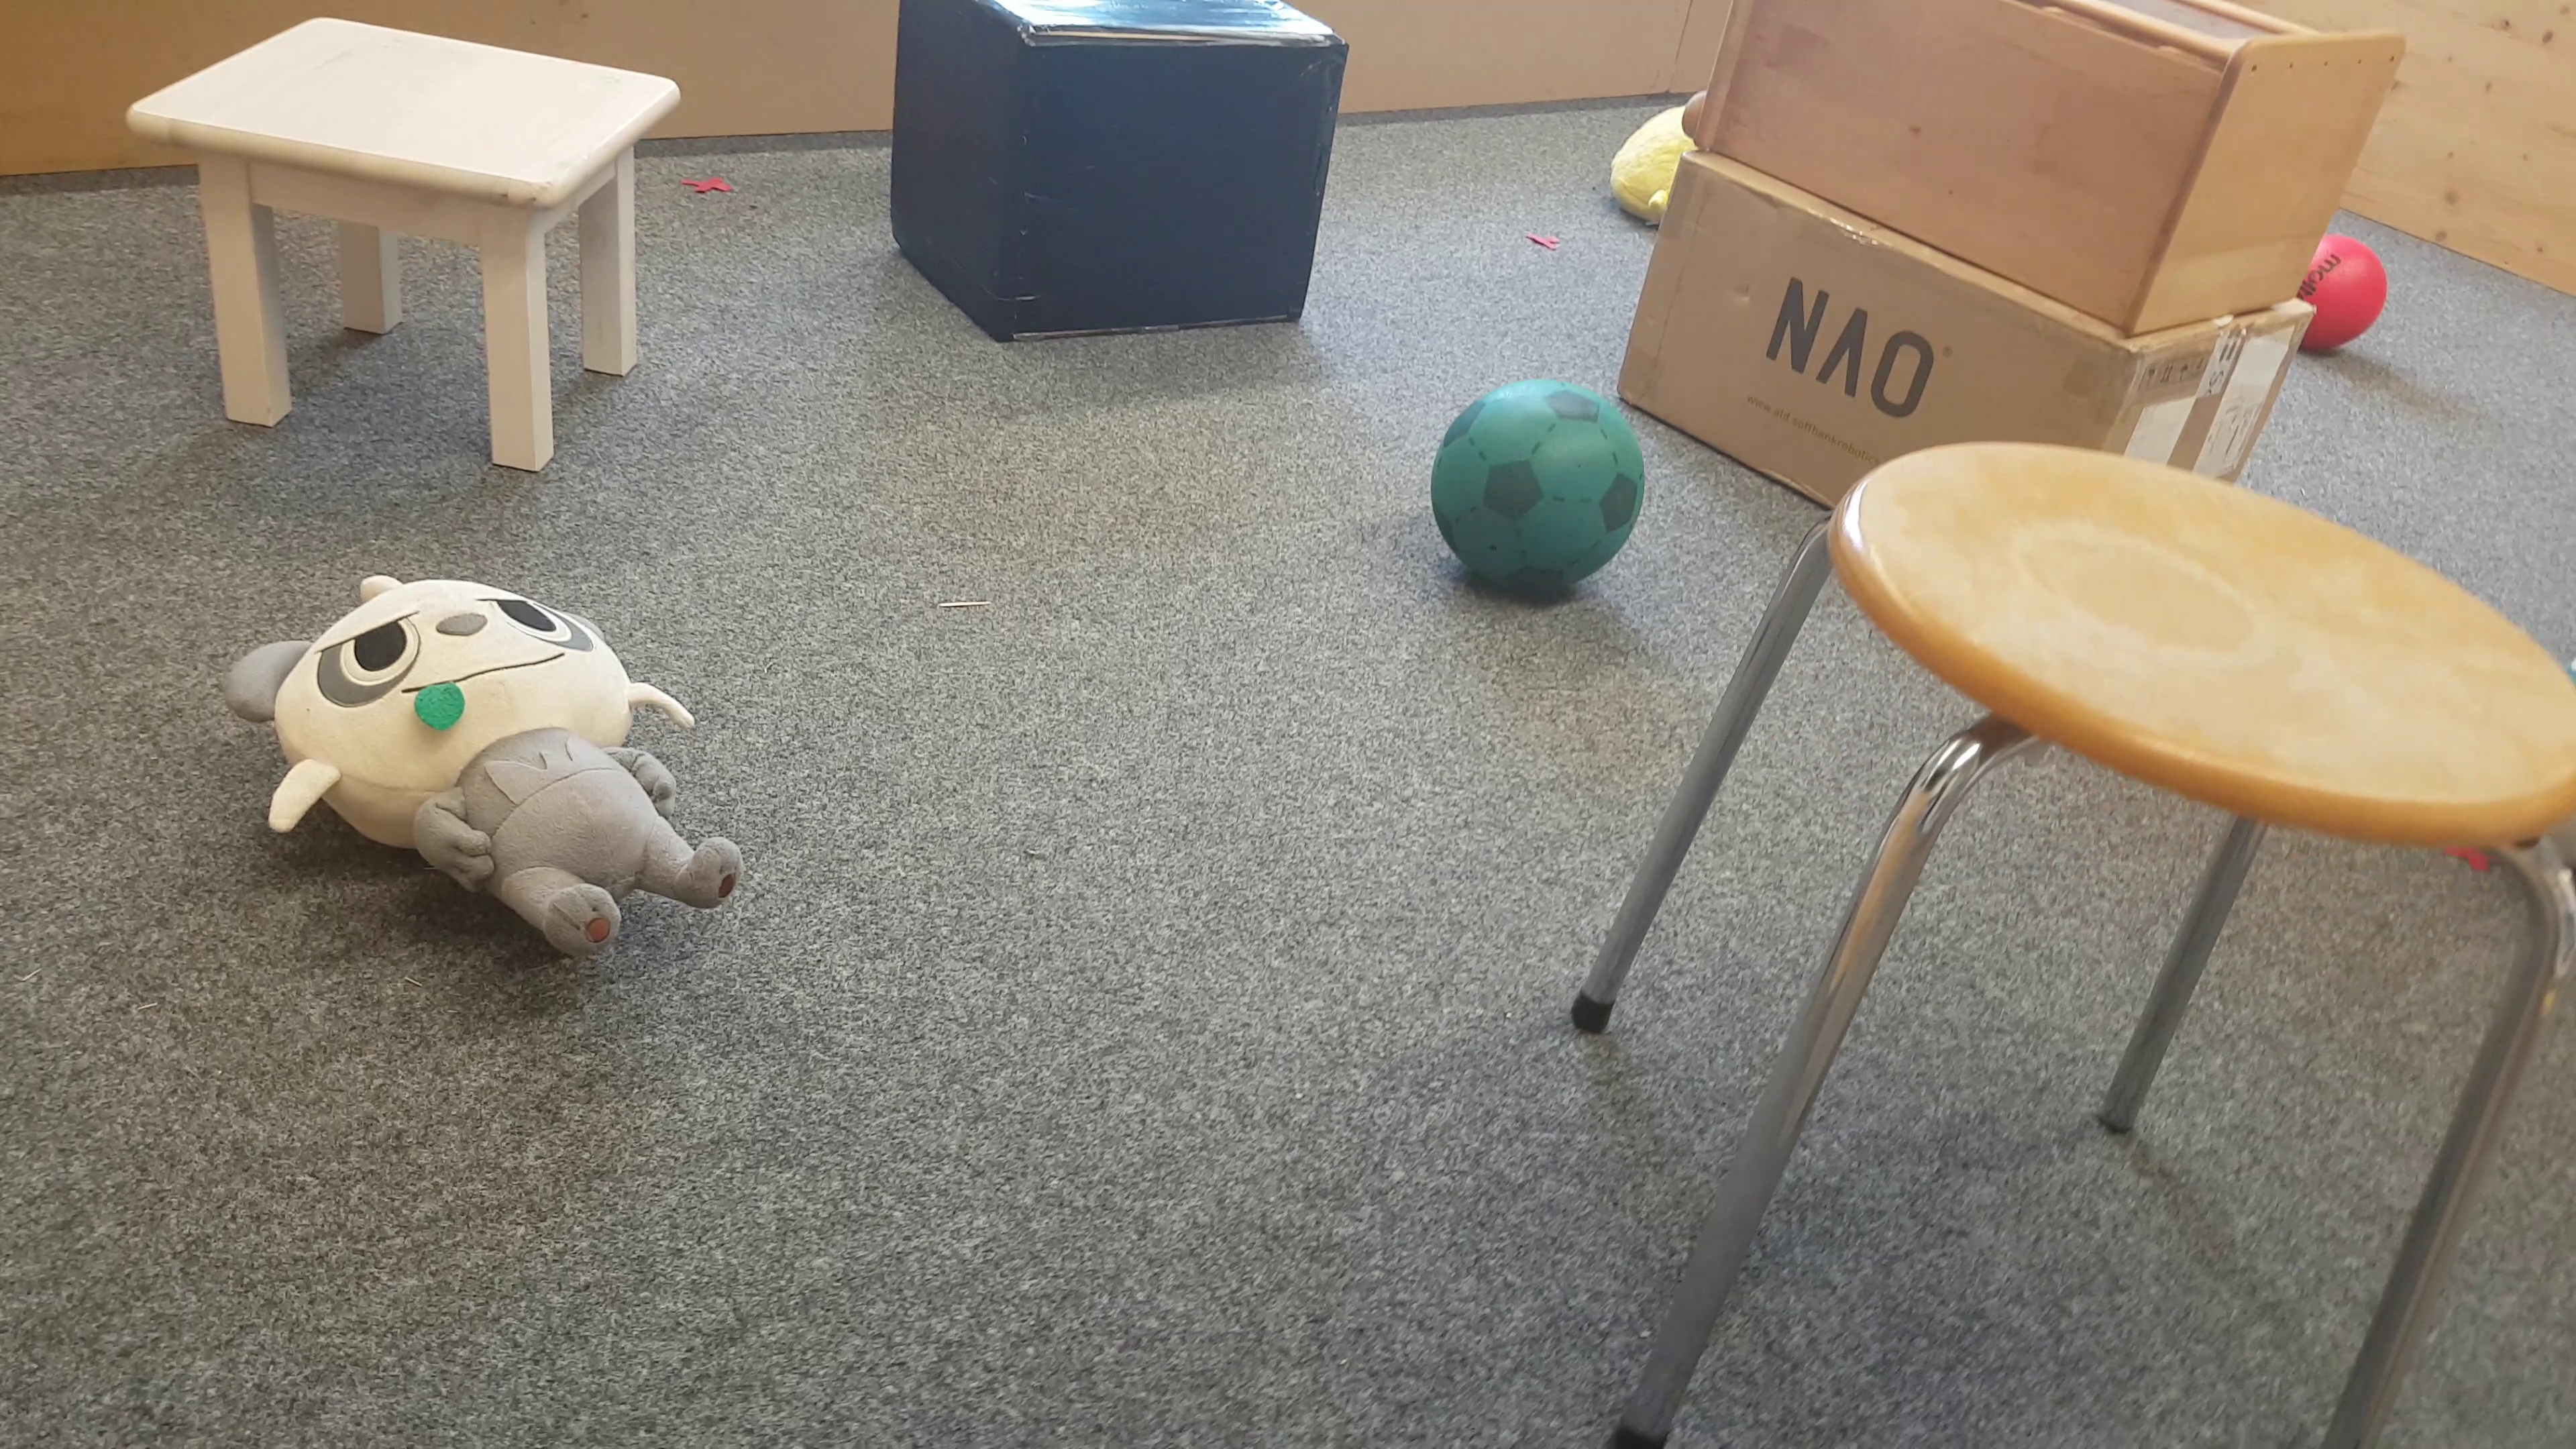grasp: (239, 564, 747, 991), (1614, 88, 1698, 223)
kick: (1435, 372, 1644, 605), (2307, 234, 2385, 361)
push: (895, 2, 1355, 341)
